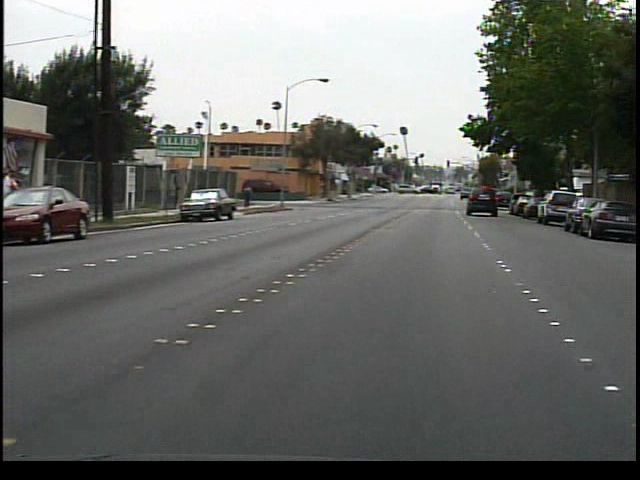person: (0, 162, 30, 238), (246, 181, 262, 213)
